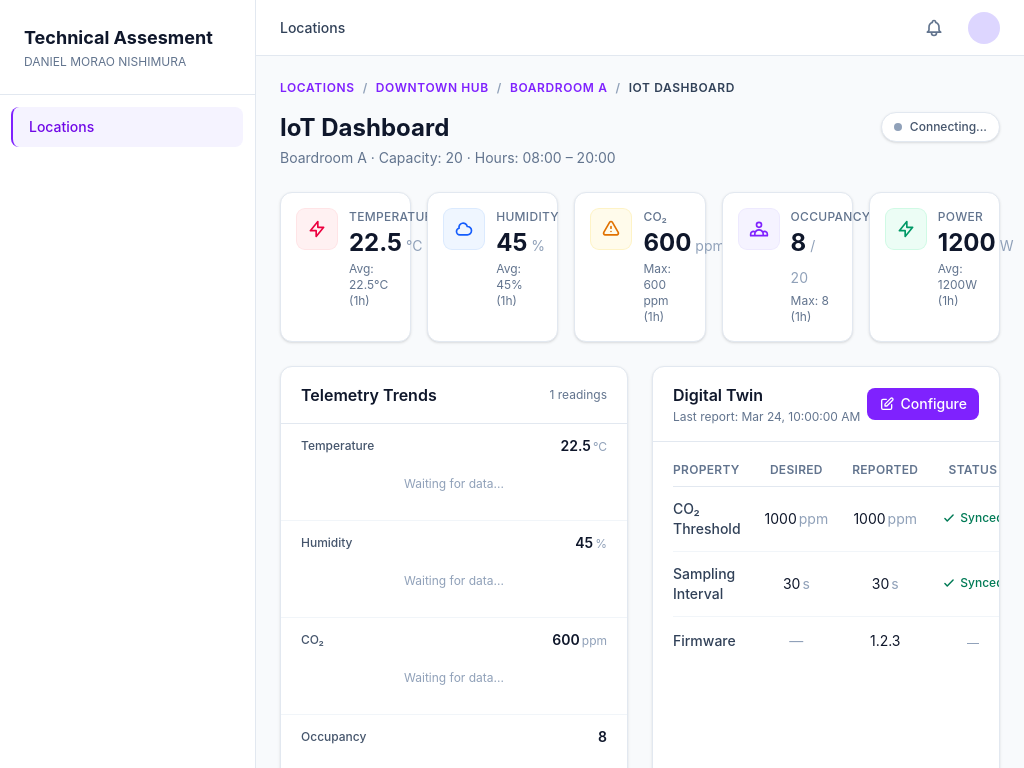
Test: IoT Dashboard page › submits new config and closes modal
This screenshot has width=1024, height=768.
Click the button "Configure" at [924, 404], box [867,388,980,420]
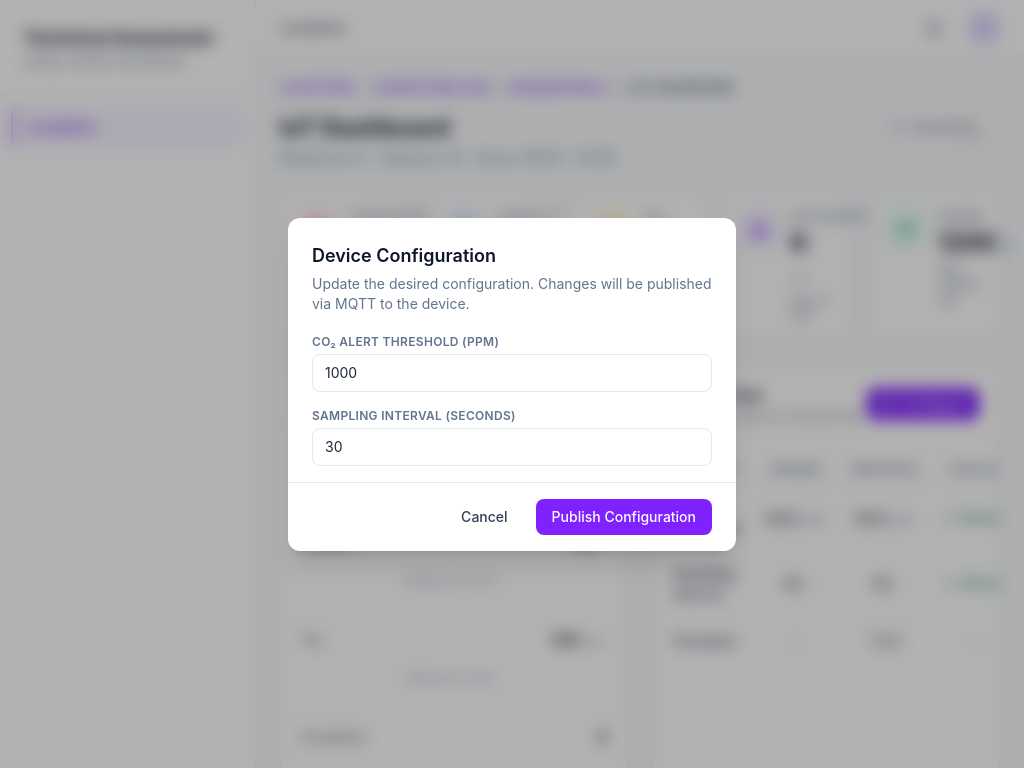
Replace the text in the number field named "co2AlertThreshold" with "900" at [512, 373], box [312,354,712,392]
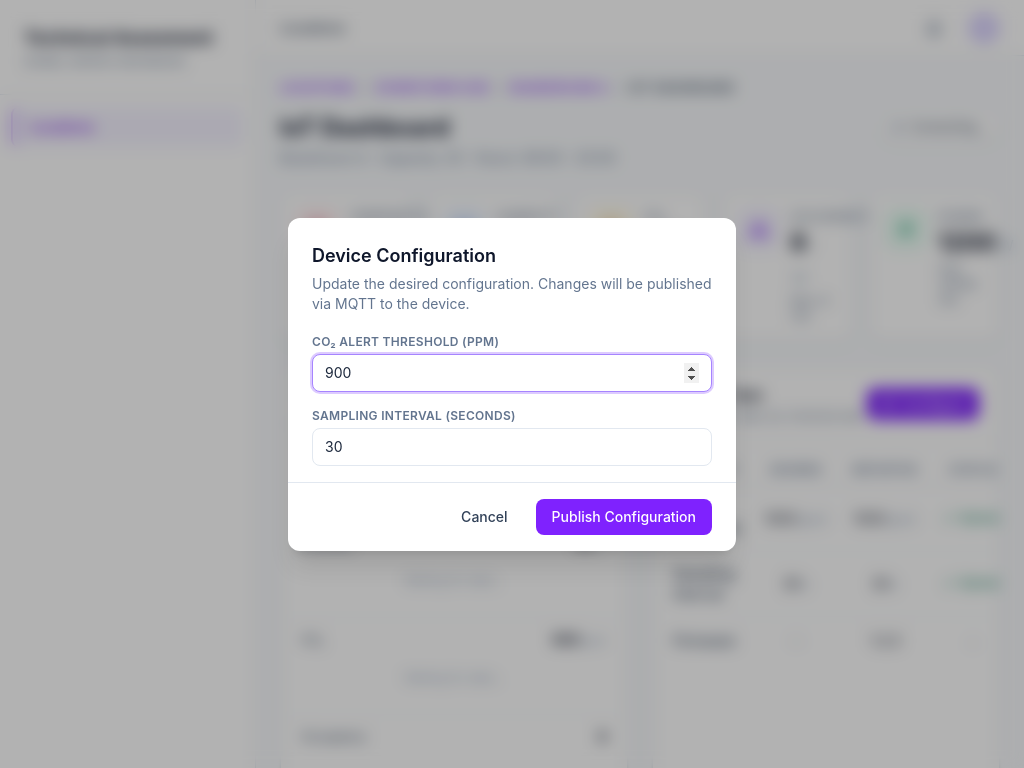
Replace the text in the number field named "samplingIntervalSec" with "60" at [512, 447], box [312,428,712,466]
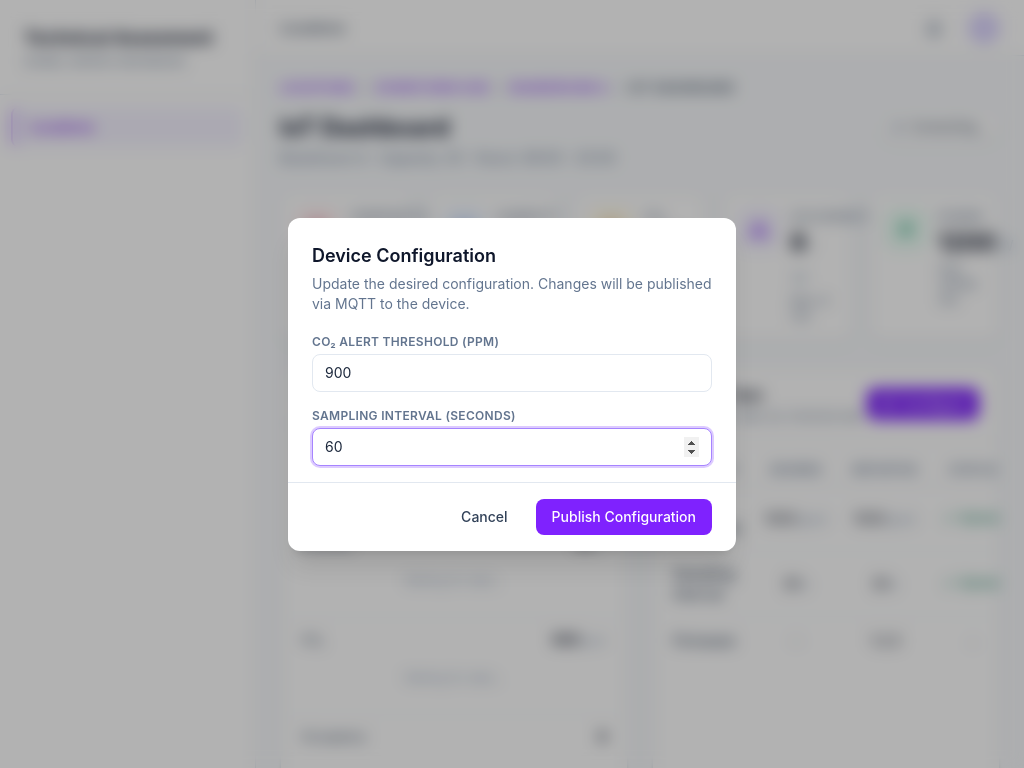
Click the button "Publish Configuration" at [624, 517], box [536,499,712,535]
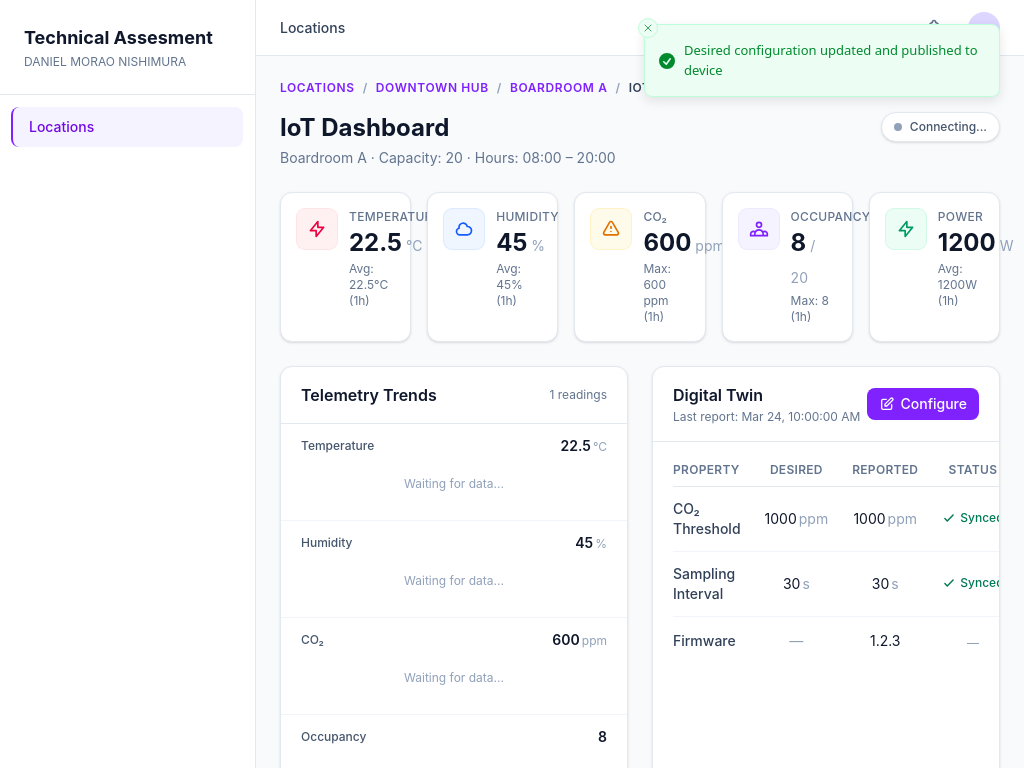
expect the heading "Device Configuration" is gone: met
